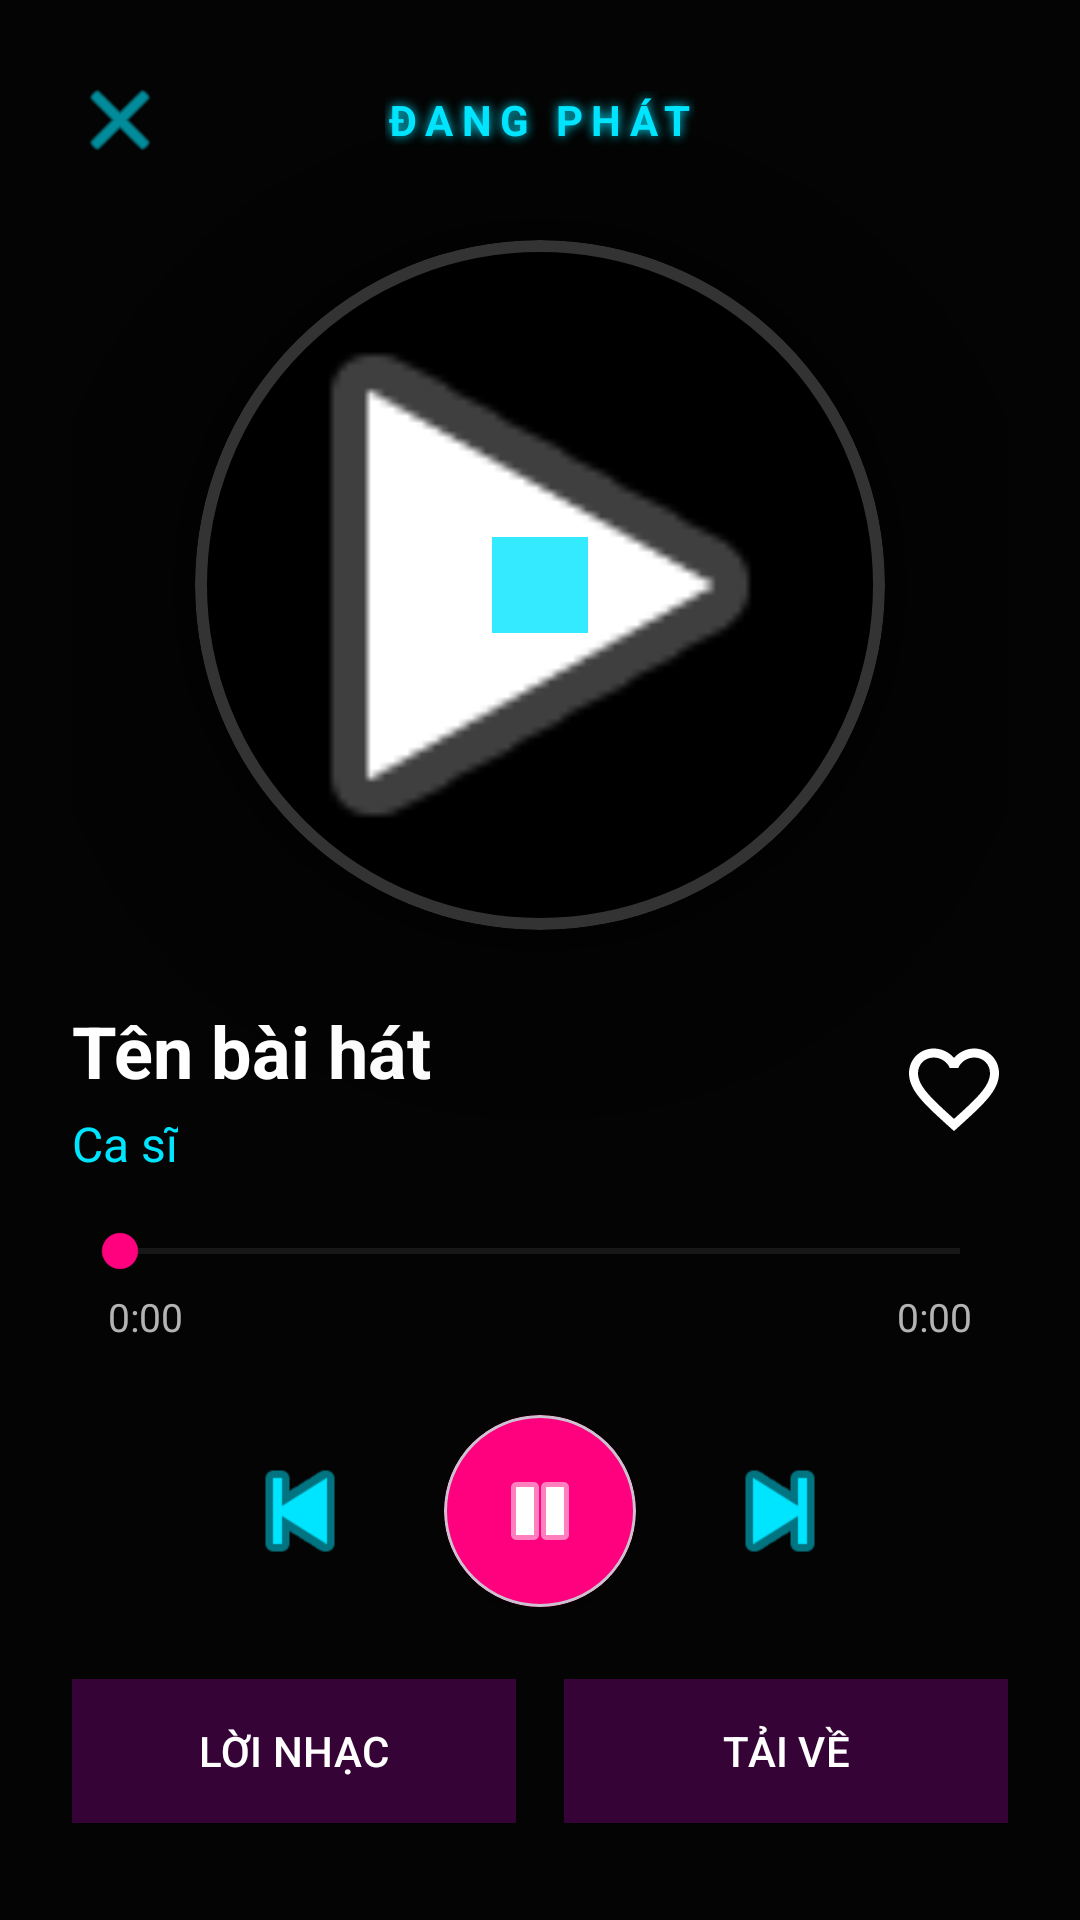

Where to tap for icons on this 1080w x 1920h app screen, as [x,y]:
close clear cancel: [120,120]
heart: [954,1089]
next: [780,1511]
pause: [540,1511]
previous: [300,1511]
